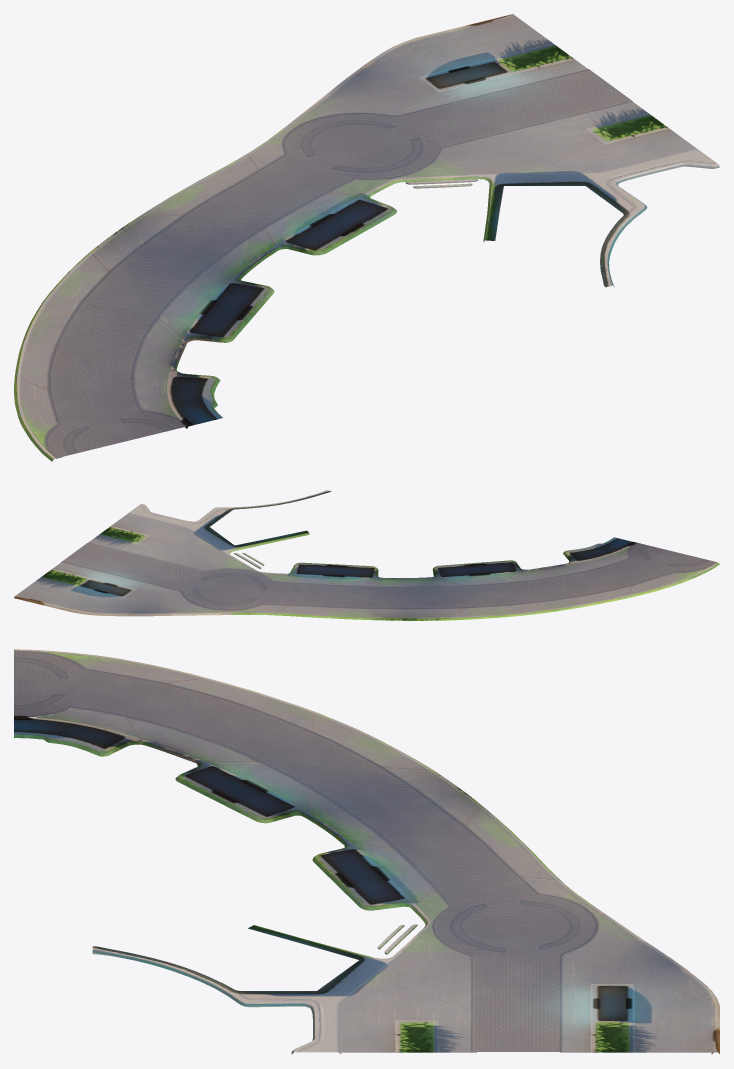
File: pref_sm_beach_techsmall_001_bk_main_road01_lv2.fbx
3 renders of one model, top to bottom at view 1: azimuth 30°, elevation 25°; view 2: azimuth 150°, elevation 25°; view 3: azimuth 270°, elevation 25°, orthographic. The views are drawn at different scales.
Parts seen in each view (by area): view 1: pref_sm_beach_techsmall_001_bk_main_road01_lv2; view 2: pref_sm_beach_techsmall_001_bk_main_road01_lv2; view 3: pref_sm_beach_techsmall_001_bk_main_road01_lv2.
Boxes of the visible parts, box(x1,y1,x2,y2) form: pref_sm_beach_techsmall_001_bk_main_road01_lv2: box(14, 14, 719, 461); pref_sm_beach_techsmall_001_bk_main_road01_lv2: box(14, 490, 719, 620); pref_sm_beach_techsmall_001_bk_main_road01_lv2: box(14, 649, 719, 1054).
Bounding box in the file's own units: 47.46 × 0.2133 × 35.07.
1 material, 1 textured.
